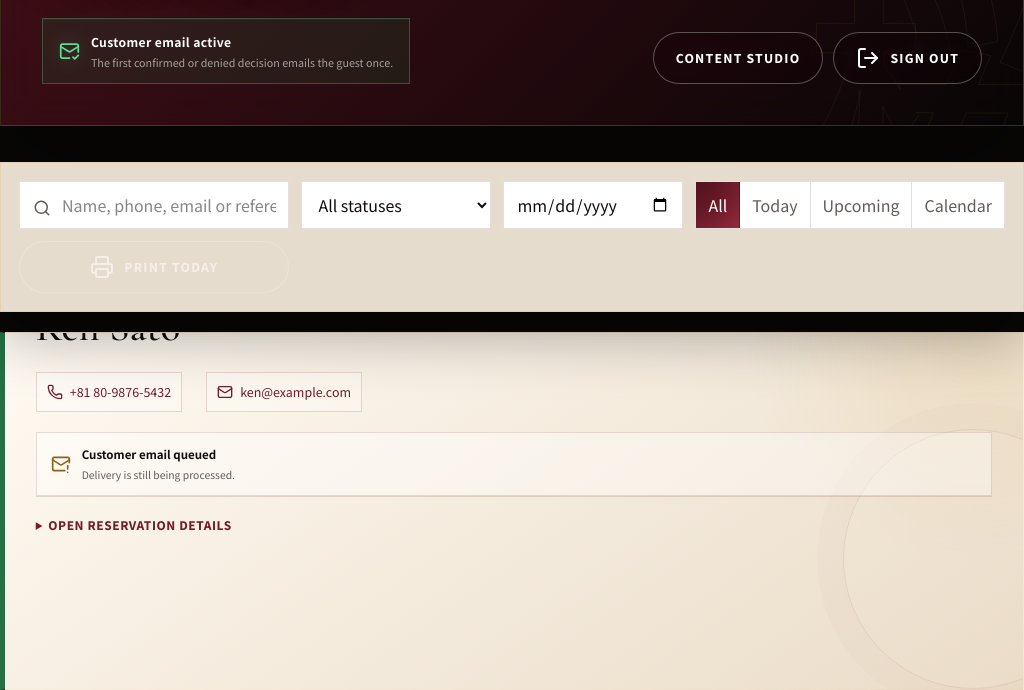
Test case: protected owner reservation dashboard › offers a retry for a decision email that is still queued
The image size is (1024, 690).
(page scrolled)
Click the heading "Open reservation details".
click(140, 524)  # box [48, 516, 232, 533]
(page scrolled)
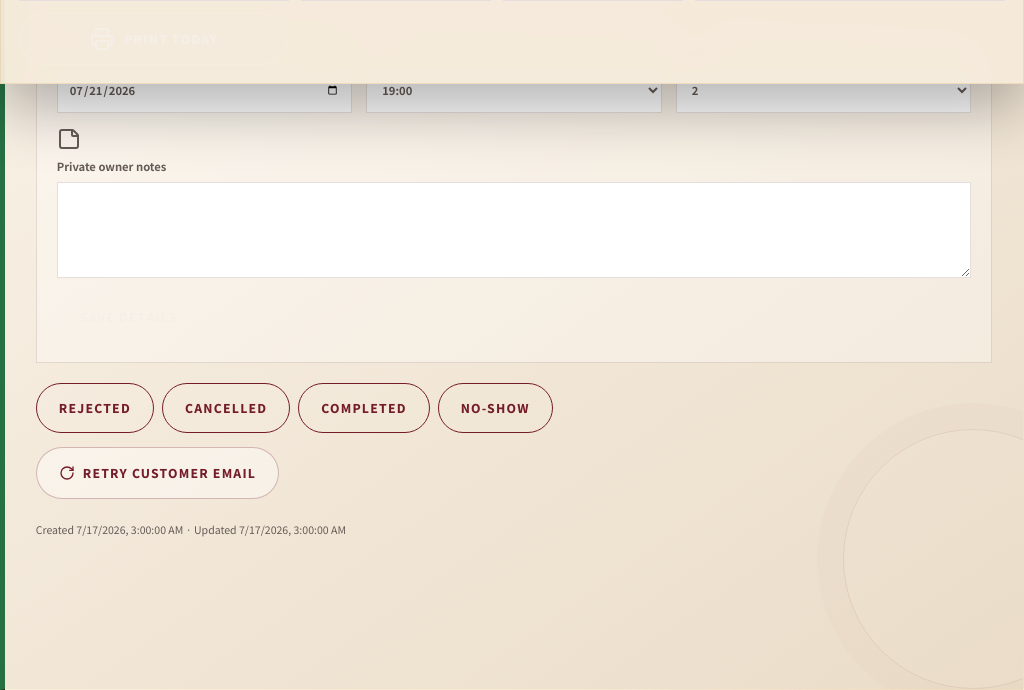
Now the button "Retry customer email" is shown, box [36, 447, 279, 499]
